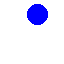circle: (27, 4, 47, 24)
